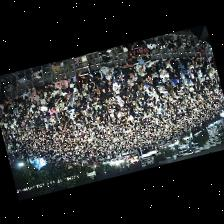person: (87, 59, 103, 81), (157, 62, 169, 81), (76, 70, 88, 88), (179, 60, 190, 77), (152, 71, 162, 89), (135, 84, 146, 100), (55, 78, 68, 91), (101, 65, 114, 78), (122, 64, 134, 78), (136, 70, 147, 84), (43, 83, 54, 96), (112, 76, 120, 93), (87, 78, 96, 93), (172, 73, 181, 88), (180, 56, 190, 69), (146, 60, 156, 73), (125, 87, 135, 99), (136, 62, 145, 75), (146, 74, 153, 90), (171, 58, 180, 70), (13, 94, 22, 106), (53, 86, 62, 98), (97, 80, 106, 92), (188, 60, 196, 73), (51, 96, 61, 106), (123, 79, 132, 90), (104, 75, 113, 86), (124, 75, 135, 84), (113, 64, 120, 78), (118, 69, 124, 84), (31, 94, 39, 105), (74, 81, 82, 92), (100, 92, 108, 103), (165, 59, 172, 71), (57, 100, 64, 111), (49, 107, 56, 118), (8, 95, 15, 106), (180, 70, 187, 81), (45, 92, 53, 101), (73, 87, 79, 99), (68, 77, 76, 86), (40, 98, 48, 107), (197, 68, 203, 80), (28, 87, 36, 96), (17, 102, 24, 112), (66, 86, 73, 96), (117, 95, 124, 105), (94, 86, 100, 97), (37, 88, 44, 97), (125, 43, 133, 50), (62, 91, 68, 100), (41, 105, 47, 114), (37, 99, 42, 108), (202, 56, 208, 63), (0, 103, 3, 113)
